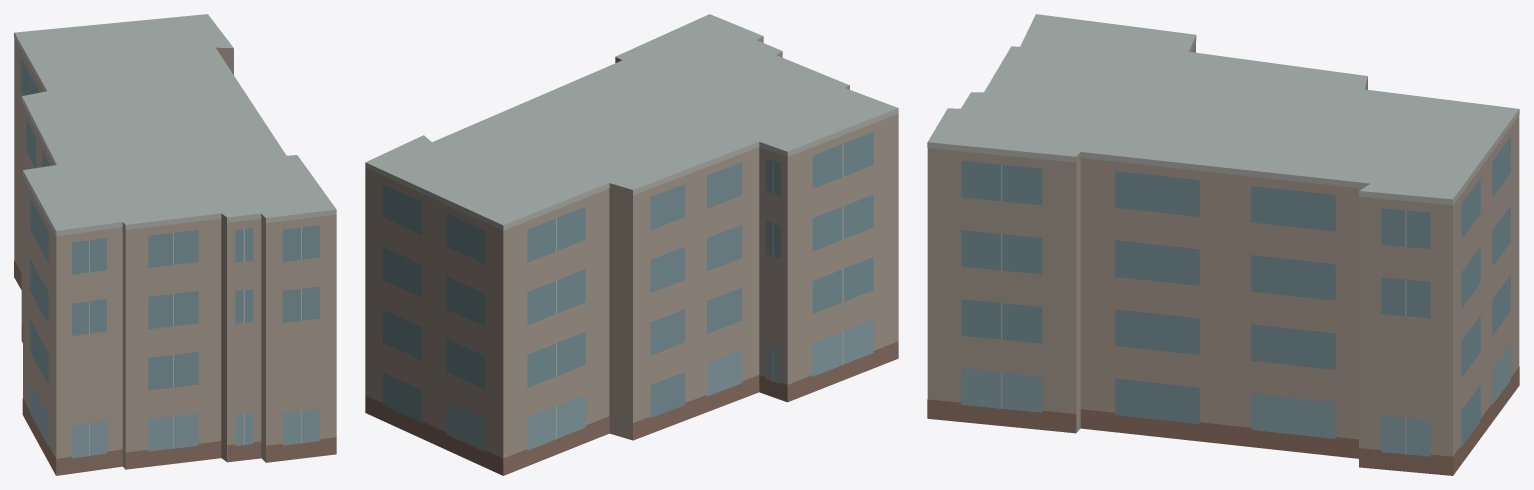
File: survey-upis-32920862.glb
The picture shows the model from 3 angles, left to right: view 1: azimuth 30°, elevation 25°; view 2: azimuth 150°, elevation 25°; view 3: azimuth 270°, elevation 25°; orthographic projection. The views are drawn at different scales.
Visible parts, largest first — view 1: survey-upis-32920862.tmp; view 2: survey-upis-32920862.tmp; view 3: survey-upis-32920862.tmp.
Boxes of the visible parts, bbox=[...] form: survey-upis-32920862.tmp: bbox=[14, 14, 336, 475]; survey-upis-32920862.tmp: bbox=[365, 14, 898, 475]; survey-upis-32920862.tmp: bbox=[927, 14, 1519, 475].
Size of the model in its own units: 16.4 by 11.4 by 22.13.
